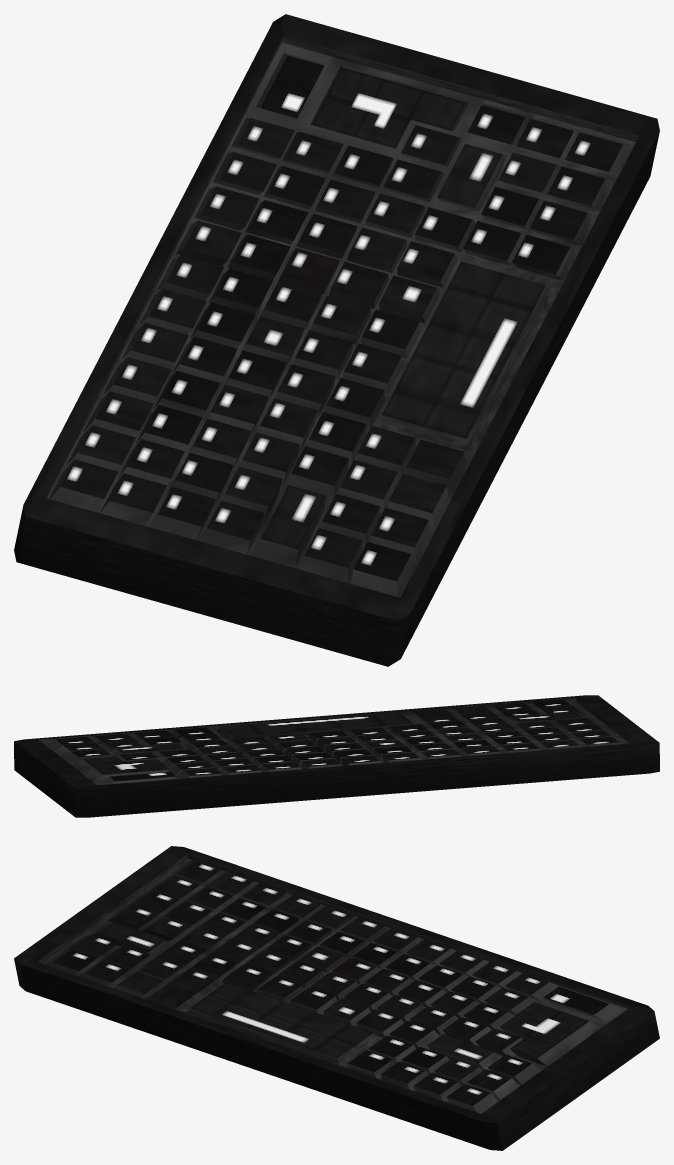
File: Teclado_Menu.fbx
The picture shows the model from 3 angles, top to bottom: view 1: azimuth 30°, elevation 25°; view 2: azimuth 150°, elevation 25°; view 3: azimuth 270°, elevation 25°; orthographic projection. The views are drawn at different scales.
Parts seen in each view (by area): view 1: Teclado; view 2: Teclado; view 3: Teclado.
Boxes of the visible parts, <box> form: Teclado: <box>14,14,659,666</box>; Teclado: <box>14,695,659,817</box>; Teclado: <box>14,846,659,1150</box>.
Bounding box in the file's own units: 137 × 23.95 × 140.
Materials: 1 (1 with a texture image).
